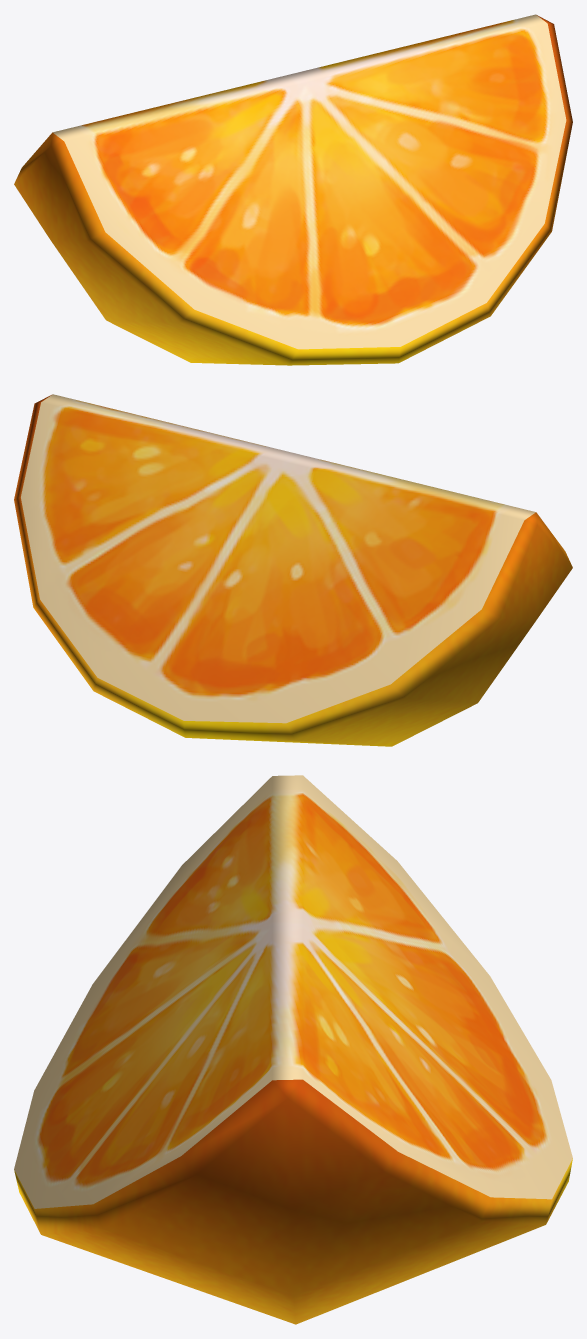
The model's file is Orange_Quarter.fbx.
3 views of the same model, one above another, from view 1: azimuth 30°, elevation 25°; view 2: azimuth 150°, elevation 25°; view 3: azimuth 270°, elevation 25° (orthographic). The views are drawn at different scales.
Visible parts, largest first — view 1: Orange_Quarter; view 2: Orange_Quarter; view 3: Orange_Quarter.
Boxes of the visible parts, box(x1,y1,x2,y2) form: Orange_Quarter: box(14, 14, 572, 365); Orange_Quarter: box(14, 394, 572, 746); Orange_Quarter: box(14, 775, 572, 1324).
Size of the model in its own units: 29.19 by 15.08 by 21.78.
